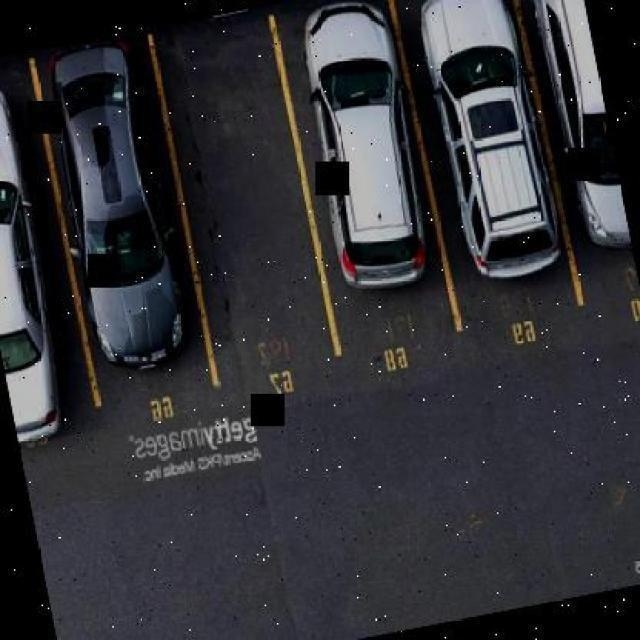Car: (29, 31, 197, 384), (276, 0, 449, 318), (402, 0, 566, 302), (0, 52, 92, 450), (531, 0, 637, 285)
Vacant: (155, 18, 331, 386)
